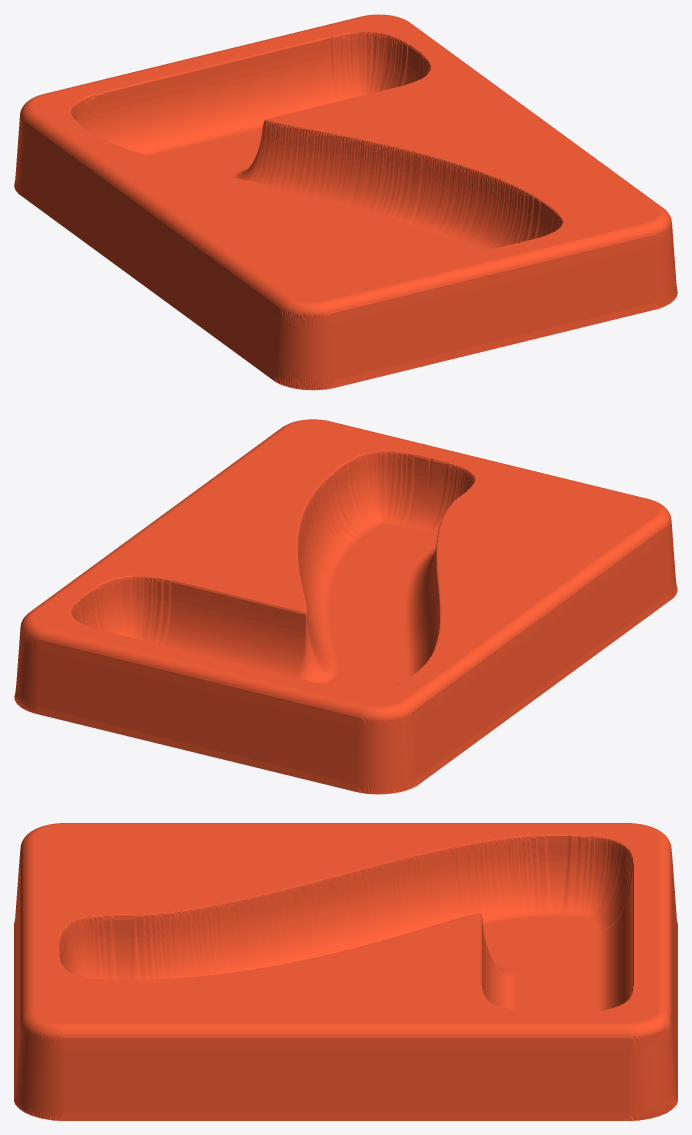
File: mold.glb
The picture shows the model from 3 angles, top to bottom: view 1: azimuth 30°, elevation 25°; view 2: azimuth 150°, elevation 25°; view 3: azimuth 270°, elevation 25°; orthographic projection. The views are drawn at different scales.
Visible parts, largest first — view 1: geometry_0; view 2: geometry_0; view 3: geometry_0.
Boxes of the visible parts, x1,y1,x2,y2 form: geometry_0: (14, 14, 677, 390); geometry_0: (14, 419, 677, 794); geometry_0: (14, 823, 677, 1120).
Bounding box in the file's own units: 0.0906 × 0.0175 × 0.1178.
